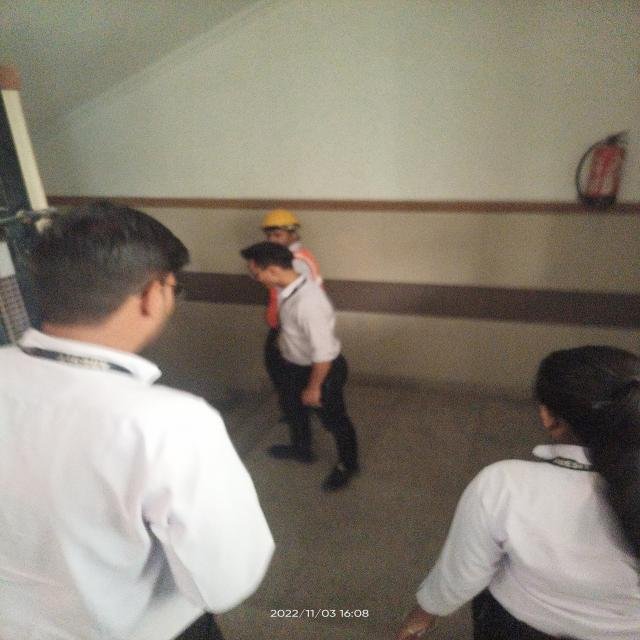unsafe: (240, 239, 370, 489)
